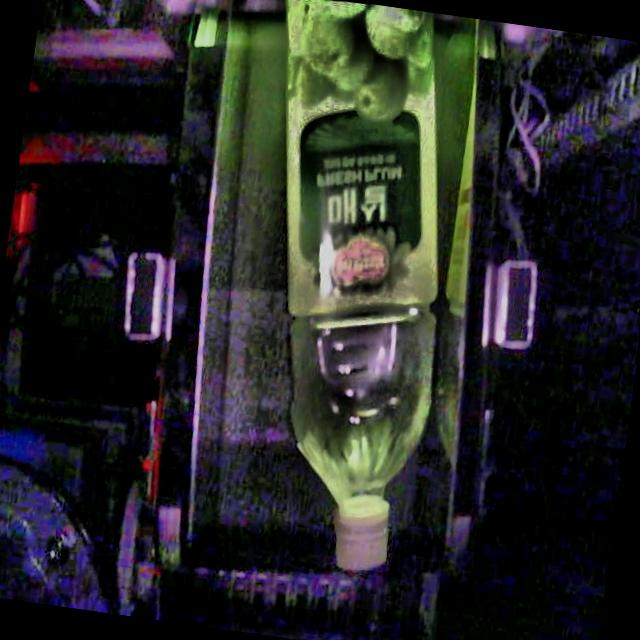plastic bottle: (285, 0, 438, 570)
